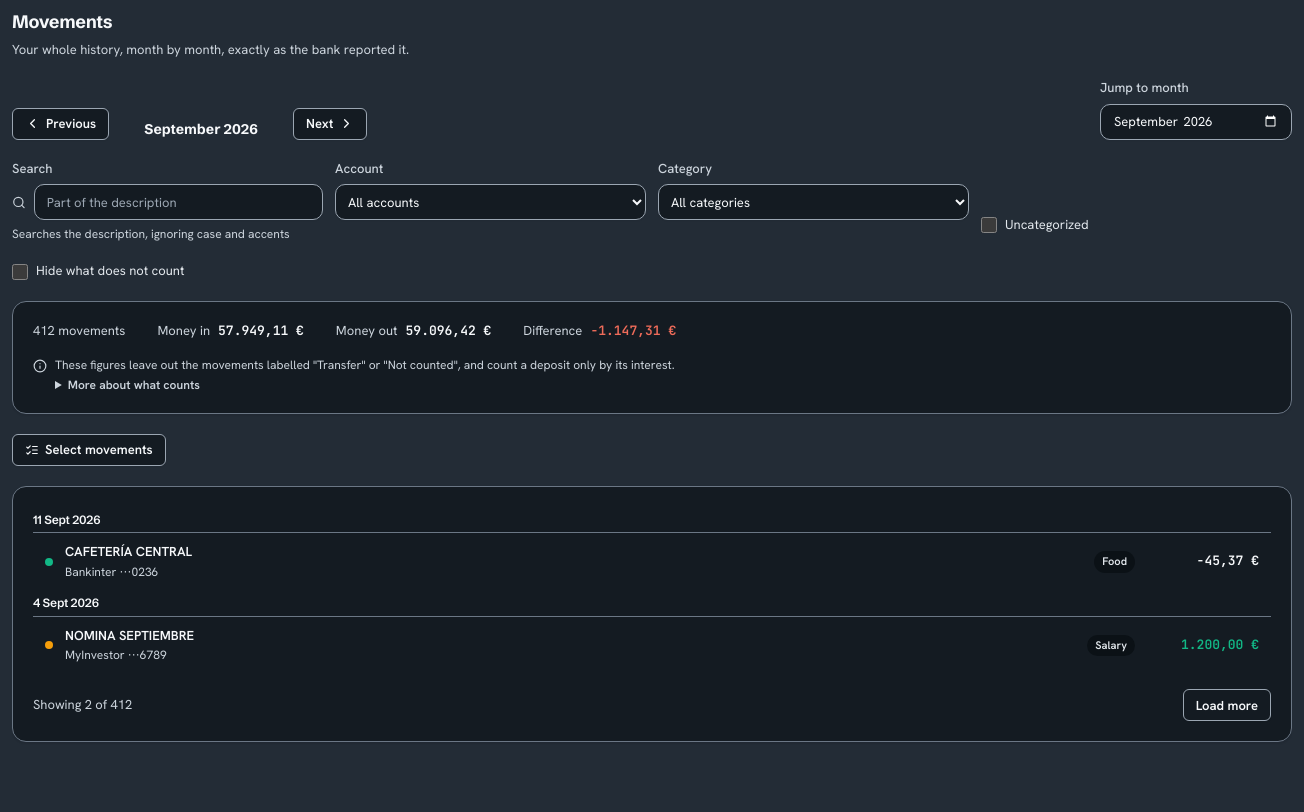
Test case: StatementView › the filters of the month (feature 20) › a filter change throws away what Load more had brought (R3)
Click the button with test id "statement-load-more" at point(1227, 705), box [1183, 689, 1271, 721]
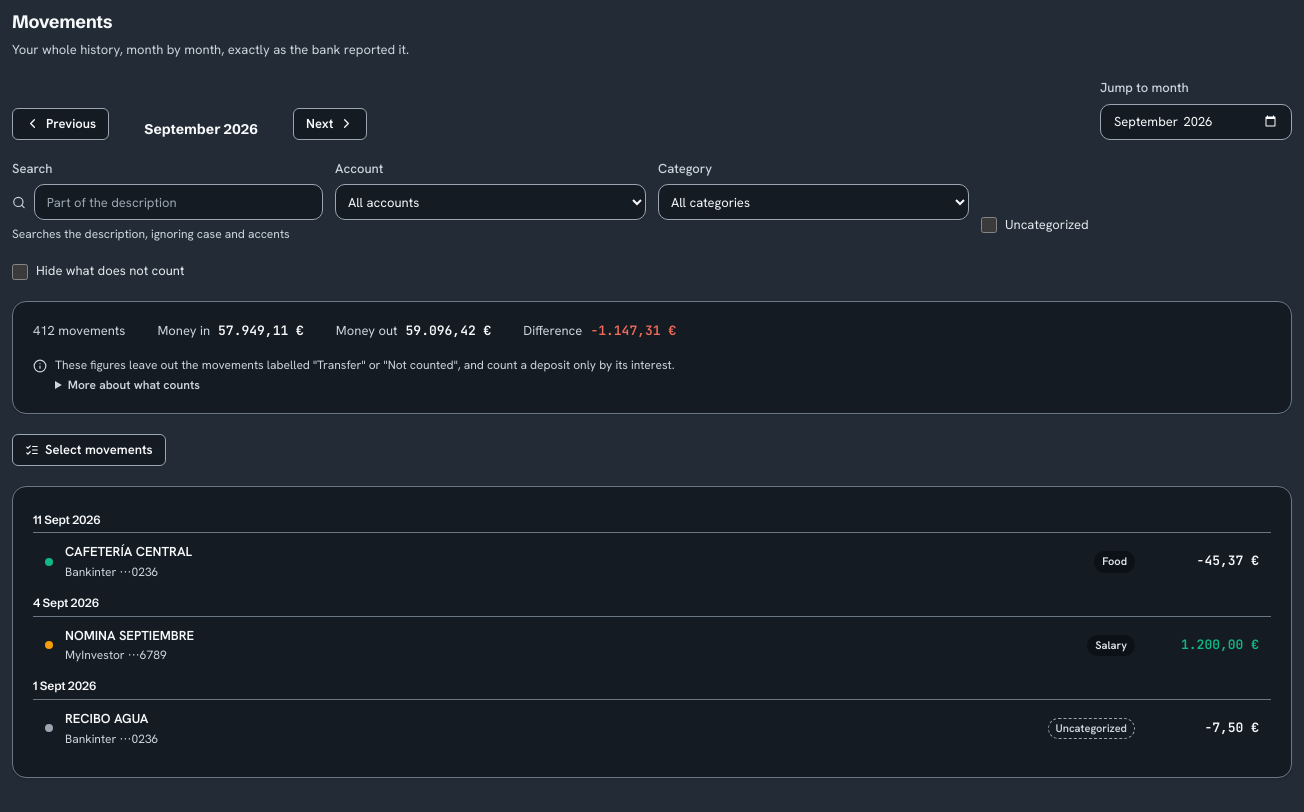
Expected: the number of list items with test id "statement-row" is 3, [33, 533, 1271, 590]; [33, 617, 1271, 673]; [33, 700, 1271, 757]
Click the checkbox labelled "Uncategorized" at point(989, 225), box [981, 217, 997, 233]
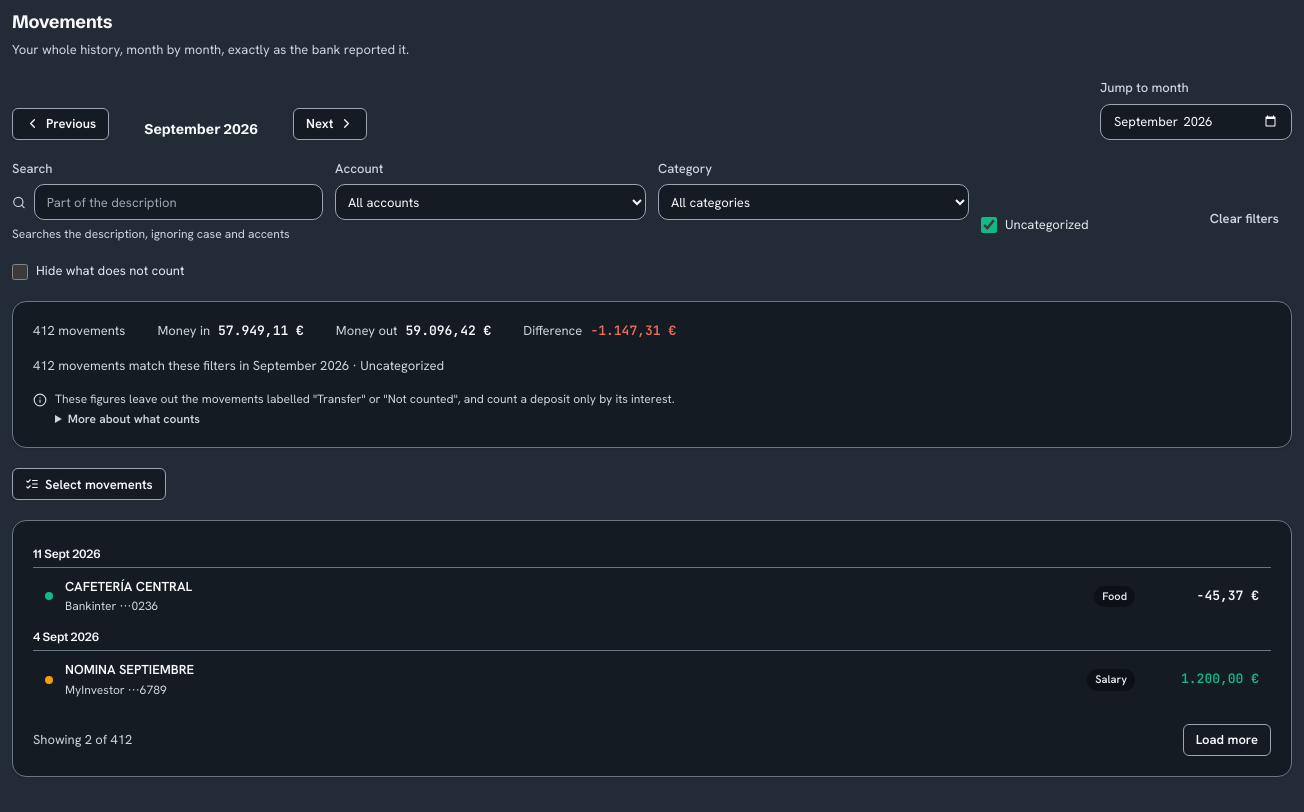
Expected: the number of list items with test id "statement-row" is 2, [33, 568, 1271, 624]; [33, 651, 1271, 708]
